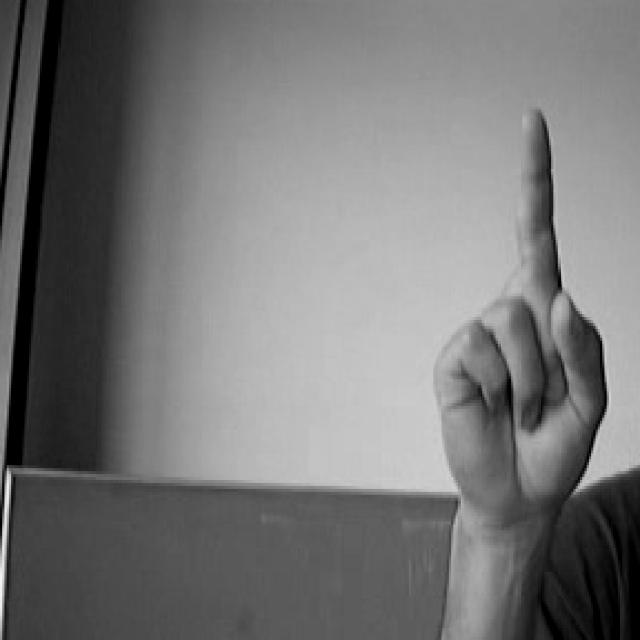D: (421, 96, 627, 520)
